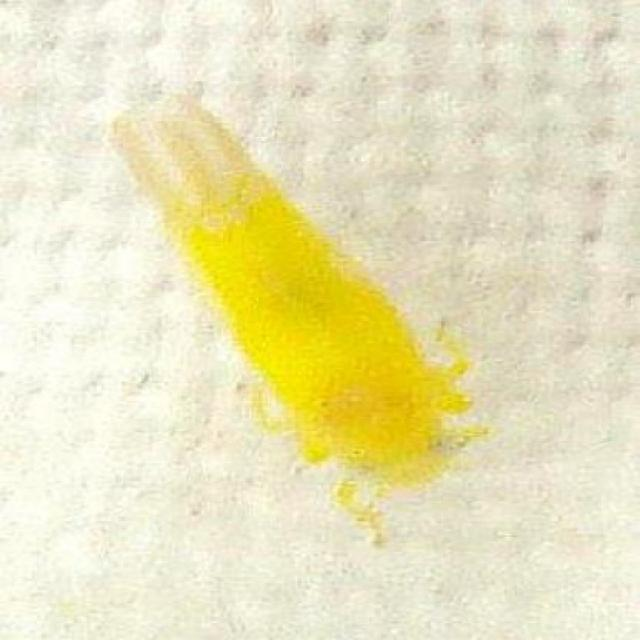green-leafhopper: (103, 92, 489, 503)
